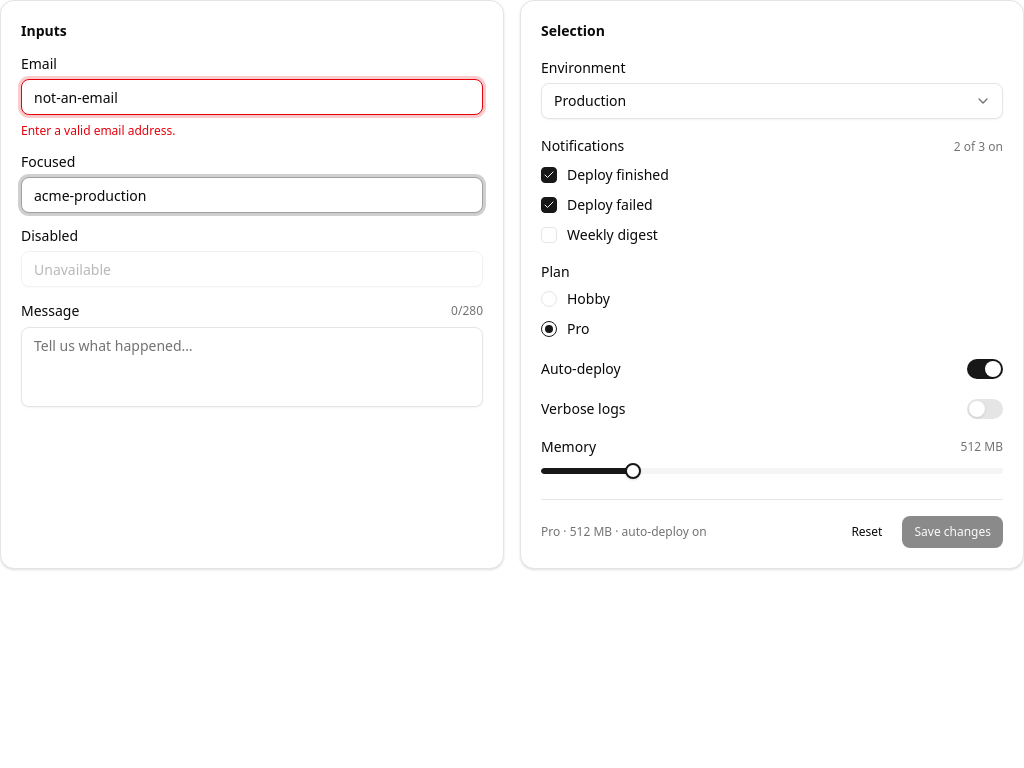
Test case: the forms section › starts invalid and clears as the address is fixed
Expected: the text "Enter a valid email address." is shown, [21, 122, 175, 139]
Step 1. Replace the text in the field labelled "Email" with "you@example.com" → point(252, 97), box [21, 79, 483, 115]
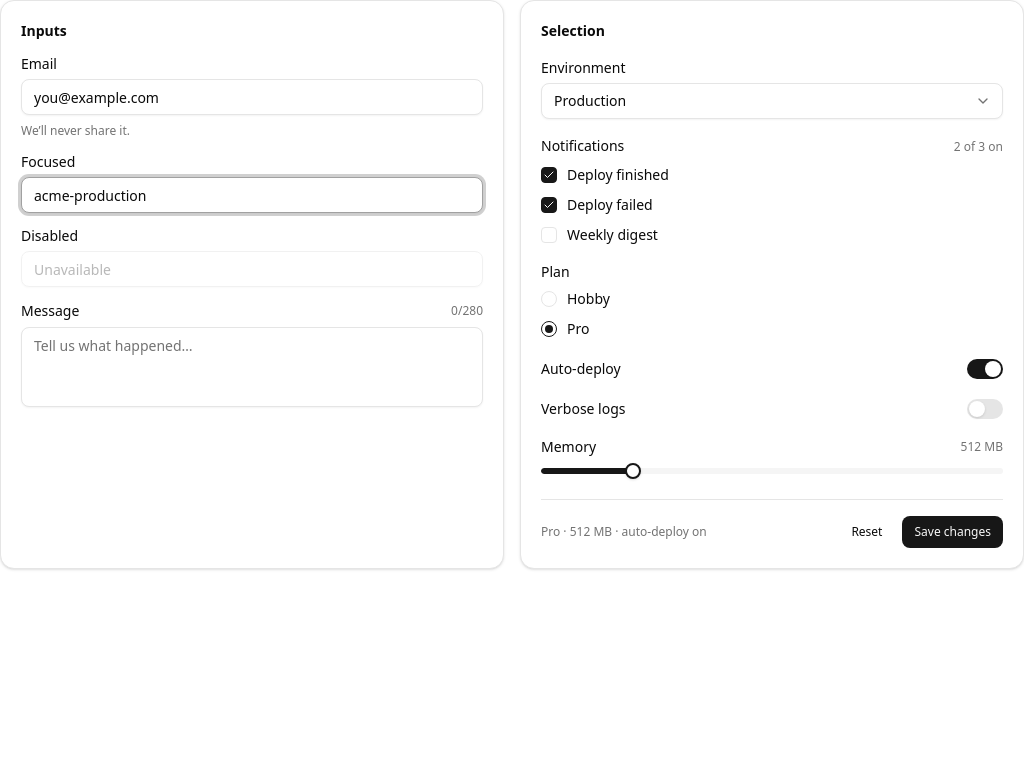
Now the text "We’ll never share it." is shown, box [21, 122, 130, 139]
